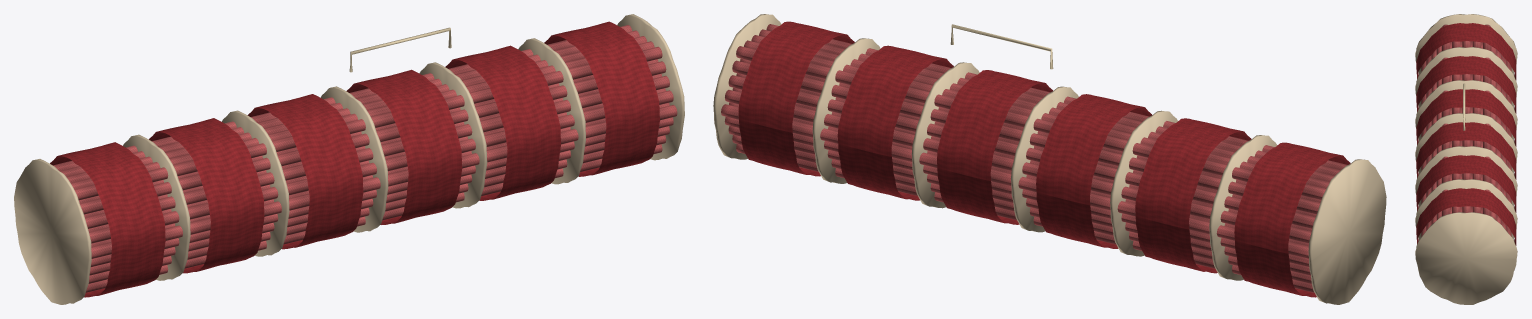
File: myofibril.glb
3 views of the same model, side by side, from view 1: azimuth 30°, elevation 25°; view 2: azimuth 150°, elevation 25°; view 3: azimuth 270°, elevation 25° (orthographic). The views are drawn at different scales.
Parts seen in each view (by area): view 1: Bande_A, Filament_contractile_00, Strie_Z_0, Repere_sarcomere; view 2: Bande_A, Filament_contractile_00, Strie_Z_0, Repere_sarcomere; view 3: Strie_Z_0, Bande_A, Filament_contractile_00, Repere_sarcomere.
Boxes of the visible parts, x1,y1,x2,y2 form: Bande_A: (50, 21, 659, 297); Filament_contractile_00: (53, 25, 677, 292); Strie_Z_0: (14, 14, 684, 304); Repere_sarcomere: (349, 27, 451, 72); Bande_A: (738, 21, 1350, 297); Filament_contractile_00: (721, 24, 1347, 292); Strie_Z_0: (713, 14, 1386, 304); Repere_sarcomere: (950, 24, 1053, 69); Strie_Z_0: (1415, 14, 1517, 304); Bande_A: (1416, 23, 1516, 245); Filament_contractile_00: (1421, 24, 1511, 236); Repere_sarcomere: (1463, 83, 1465, 130).
Size of the model in its own units: 6.44 by 1.84 by 1.4.
4 materials, 3 textured.
